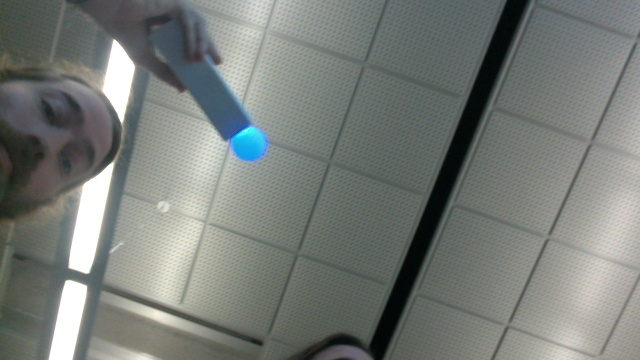wand: (234, 127, 267, 161)
